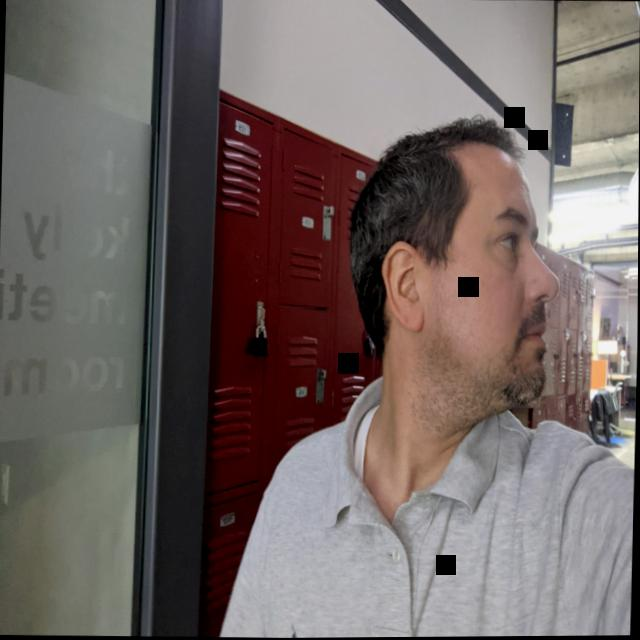NO-Mask: (401, 156, 564, 410)
